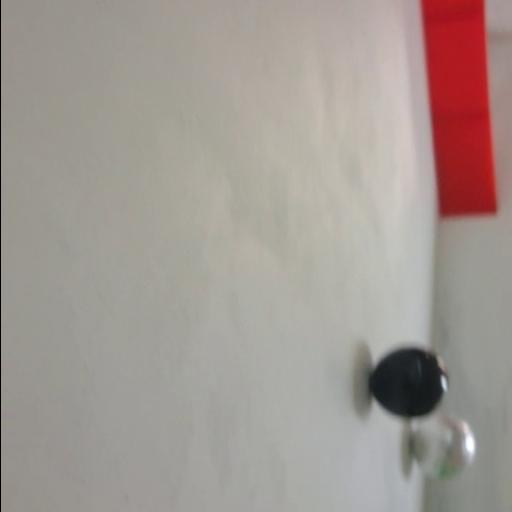alive: (408, 414, 474, 482)
dead: (369, 344, 448, 420)
